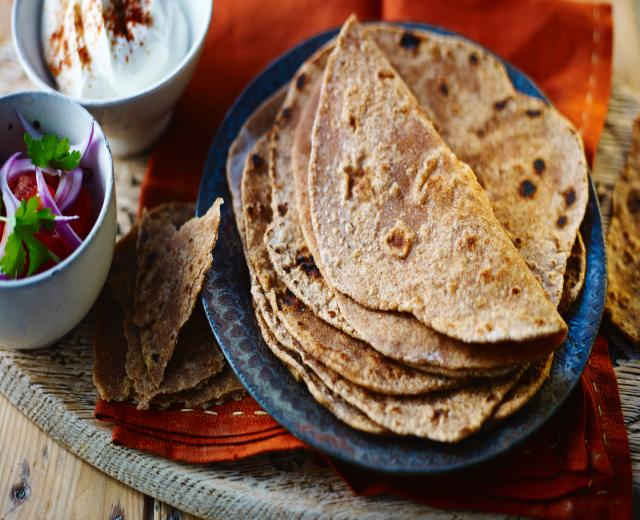chapati: (238, 16, 588, 442)
